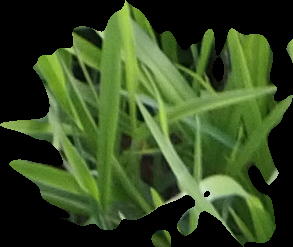grass: (1, 1, 290, 245)
